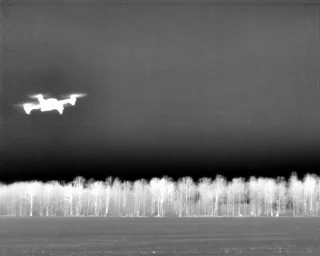DRONE: (16, 86, 90, 122)
